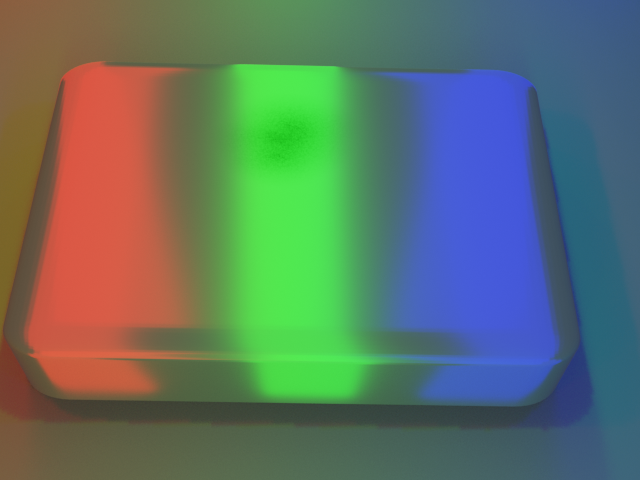stain: (178, 75, 386, 186)
